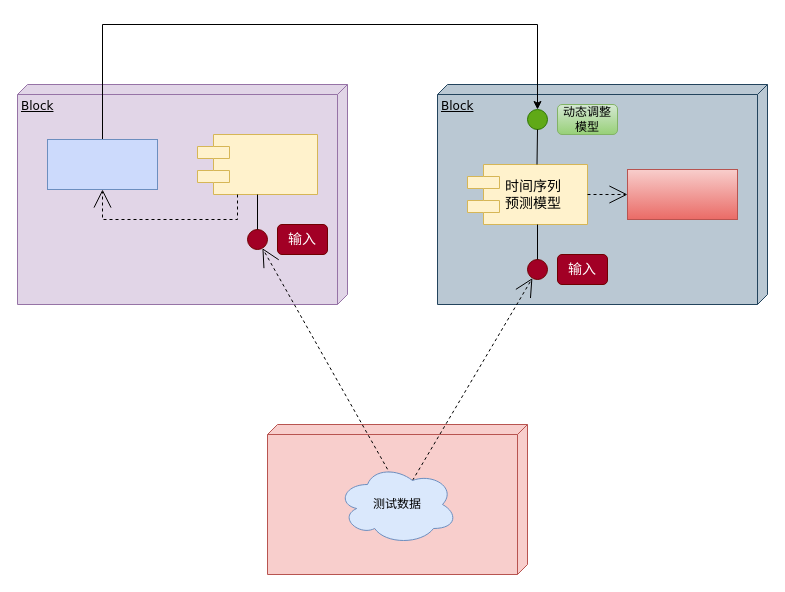
This 785x592 diagram has some shape labels left out. Here are the shapes that lost their labels. From the top down, the centre of each, then its label:
At point (102, 164): "增强数据集".
At point (257, 164): "SOLID模型".
At point (682, 194): "预测结果".
